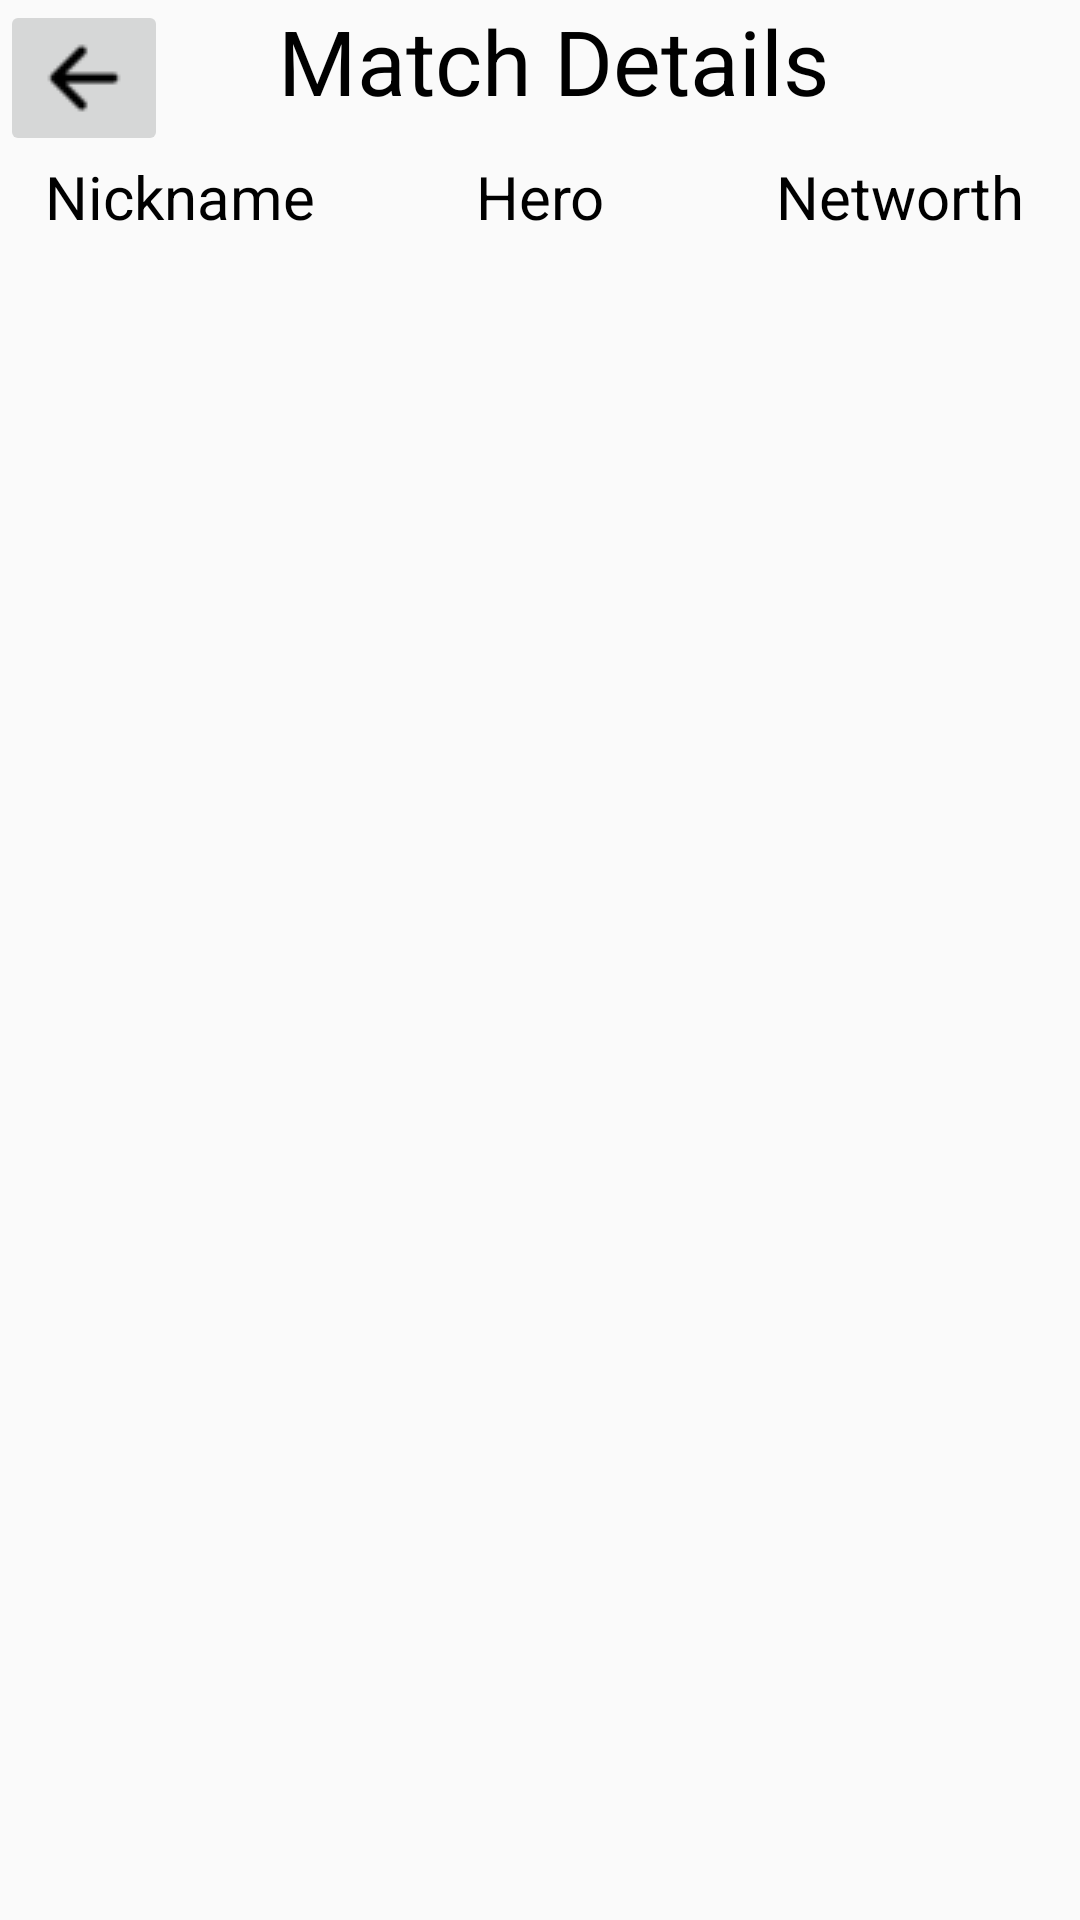

Locate icon controls on the screen. Image size 1080 × 1920, boxes as [x1=x1, y1=y1, x2=x2, y2=y2].
Button to get to Main Activity: [x1=12, y1=18, x2=156, y2=138]
